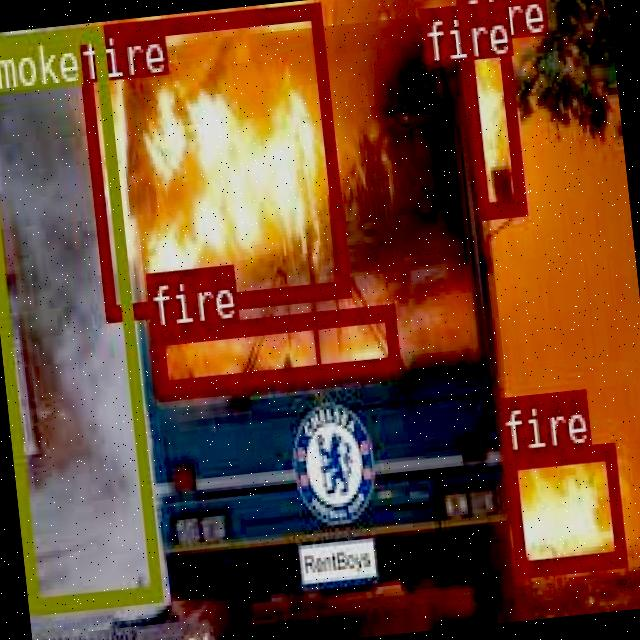fire: (74, 0, 349, 319), (150, 304, 399, 394), (503, 442, 623, 573), (458, 36, 523, 218), (419, 4, 452, 27)
smoke: (0, 21, 161, 609)
